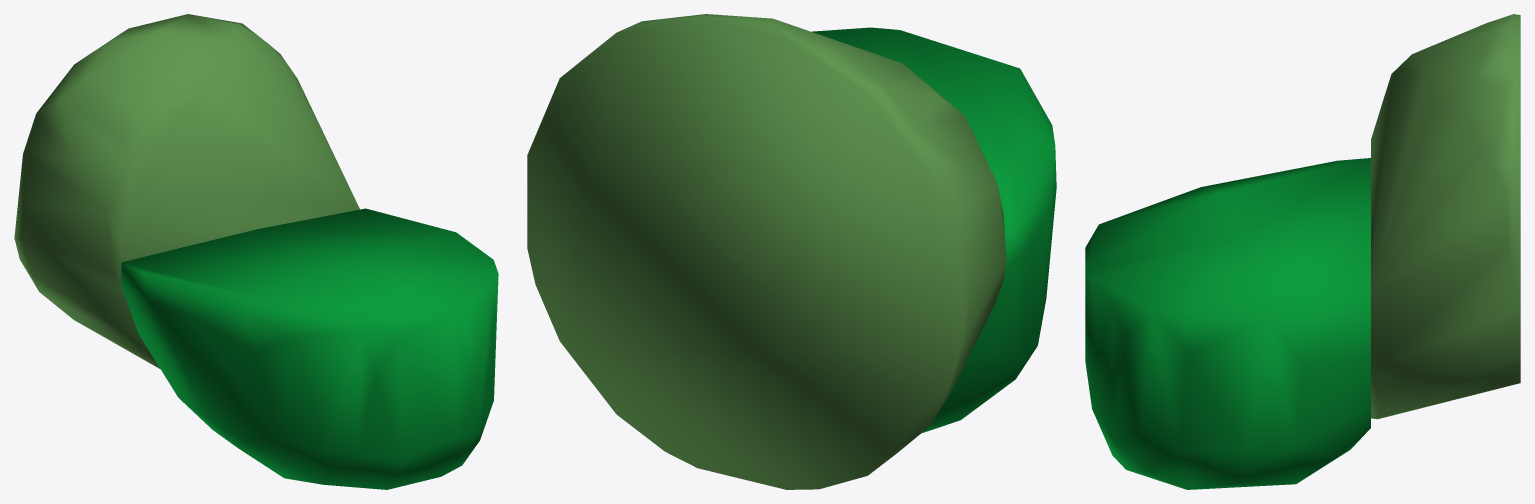
3 renders of one model, left to right at view 1: azimuth 30°, elevation 25°; view 2: azimuth 150°, elevation 25°; view 3: azimuth 270°, elevation 25°, orthographic. The views are drawn at different scales.
Size of the model in its own units: 0.1418 by 0.1418 by 0.1513.
